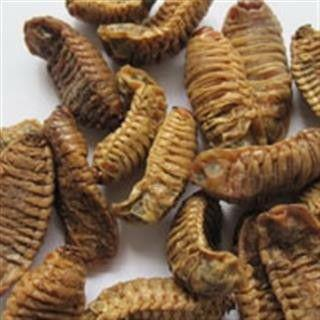grub: (19, 15, 120, 125)
